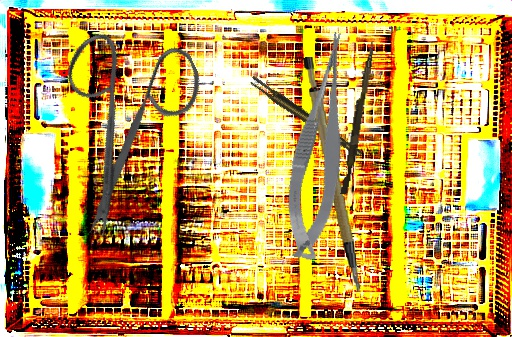Iris Scissors: (15, 2, 245, 244)
Micro Scissor: (269, 29, 375, 263)
Pusher: (340, 39, 376, 196)
Scalpel Handle: (299, 54, 363, 296)
Tissue Forceps: (248, 72, 363, 163)
